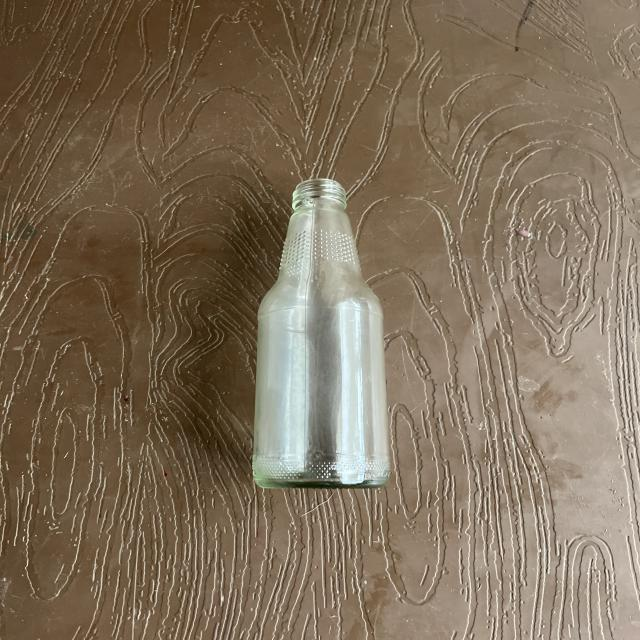Glass_Bottle: (253, 179, 389, 487)
